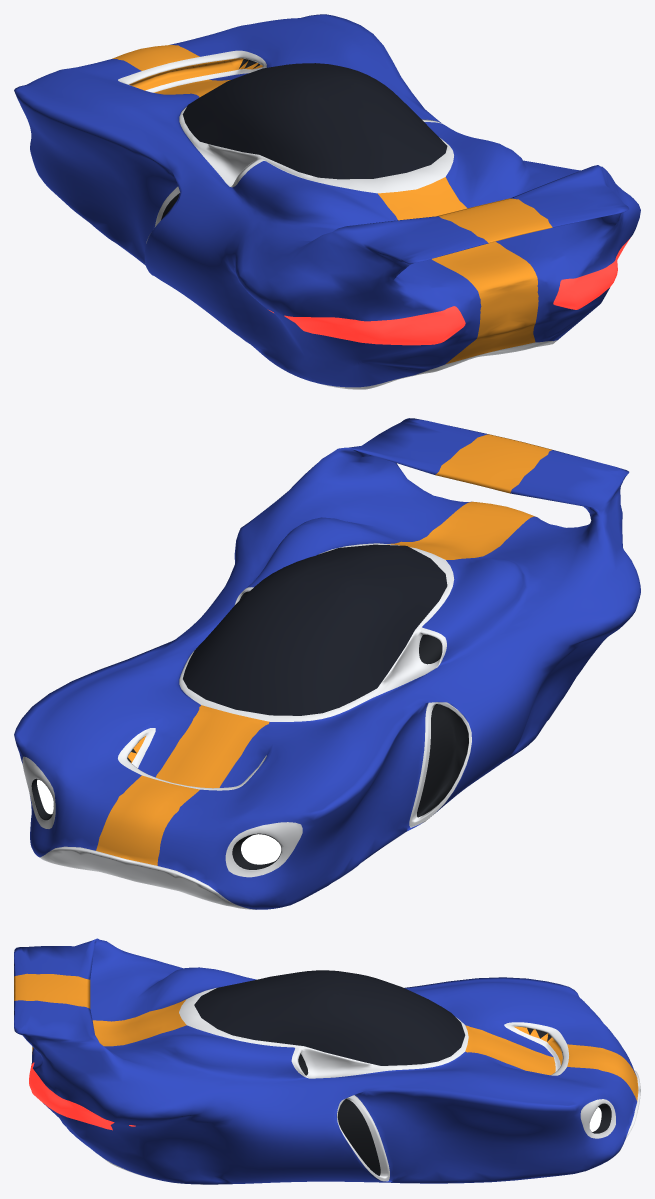
File: w3-haunches.glb
3 renders of one model, top to bottom at view 1: azimuth 30°, elevation 25°; view 2: azimuth 150°, elevation 25°; view 3: azimuth 270°, elevation 25°, orthographic. The views are drawn at different scales.
Visible parts, largest first — view 1: Body.001, Canopy; view 2: Body.001, Canopy; view 3: Body.001, Canopy.
Part boxes in pixels (bbox=[...]): Body.001: bbox=[14, 14, 640, 389]; Canopy: bbox=[182, 63, 447, 179]; Body.001: bbox=[14, 418, 640, 909]; Canopy: bbox=[183, 544, 447, 715]; Body.001: bbox=[14, 938, 640, 1184]; Canopy: bbox=[194, 970, 465, 1065].
Size of the model in its own units: 2.2 by 1.12 by 4.
